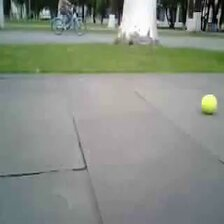tennis: (201, 94, 218, 115)
